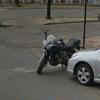Motorcycle: (30, 25, 83, 80)
